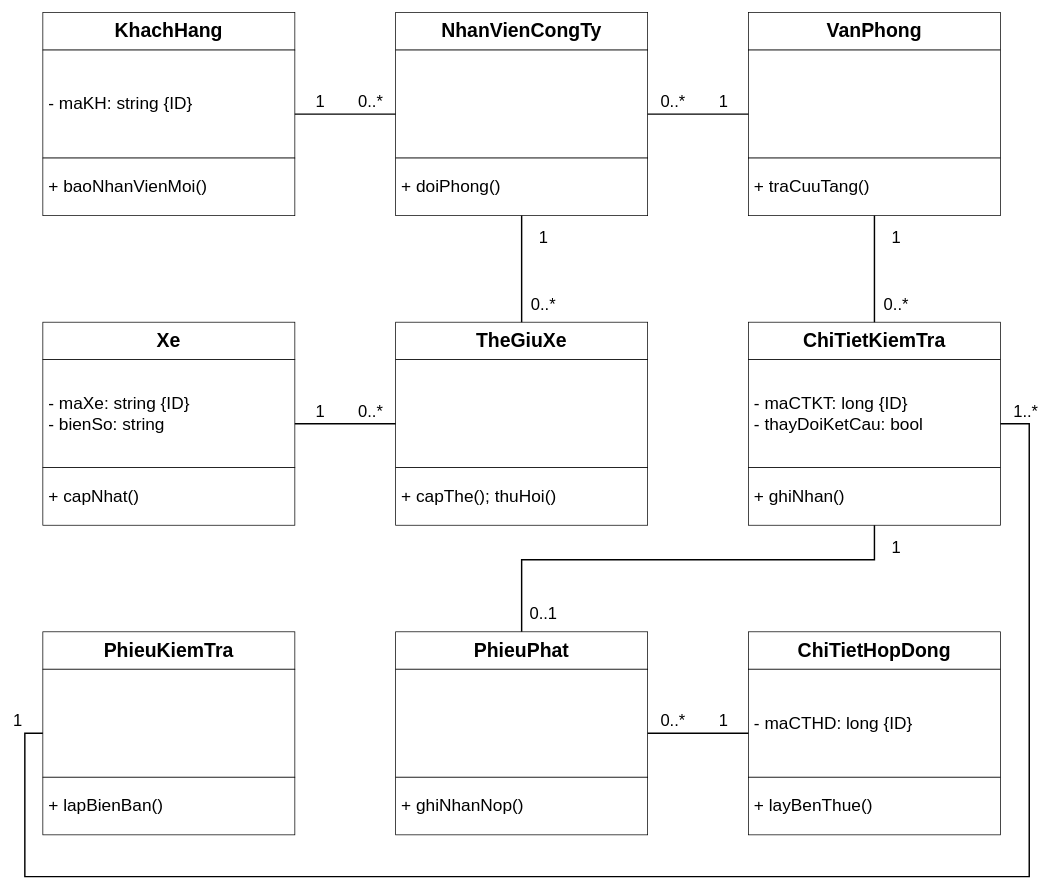
This 1051x891 diagram has some shape labels left out. The shapes that lost their labels are listed below. From the top down, each one's centre as x and y in pixels, then its label:
At point 521,103: "- maNV: string {ID} - hoTen, anh: string - chucVu: string".
At point 874,103: "- maPhong: string {ID}".
At point 521,413: "- maThe: string {ID} - ngayCap: date - ngayThuHoi: date?".
At point 168,723: "- maPKT: string {ID} - ngayKiemTra: date".
At point 521,723: "- maPhat: string {ID} - soTien: decimal".
At point 647,858: "Một xe có tối đa một thẻ hiệu lực; giữ lịch sử thu hồi.".
